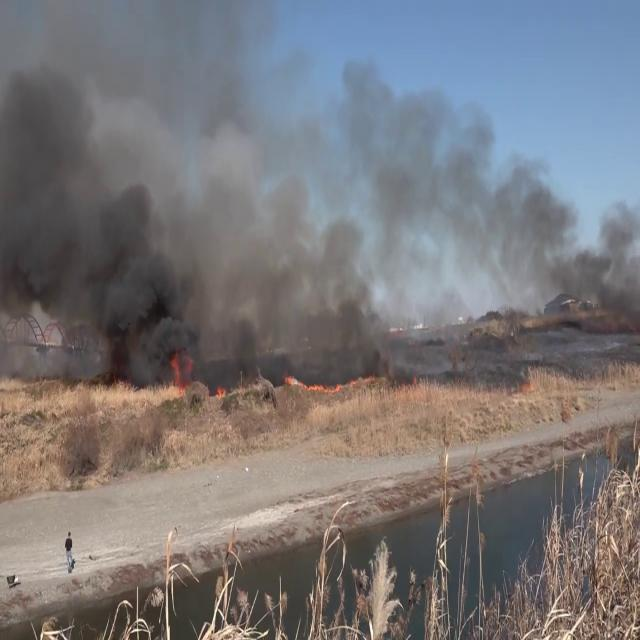Smoke: (0, 21, 636, 378)
